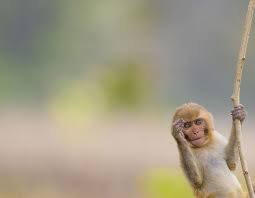monkey: (155, 55, 230, 198)
